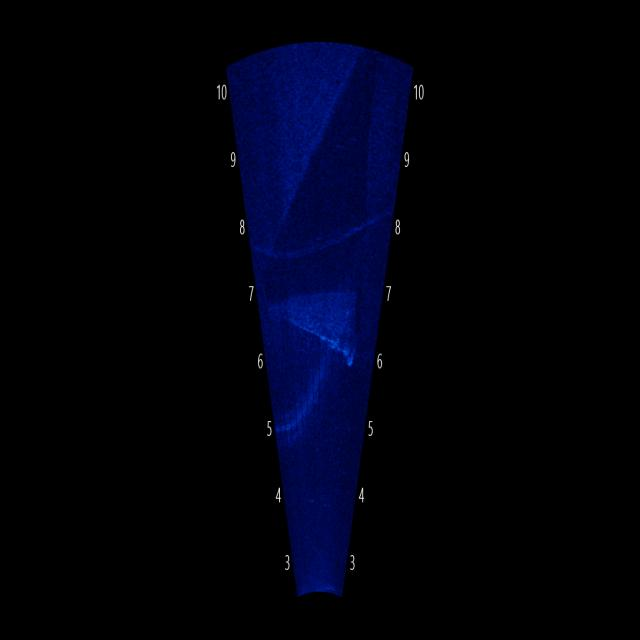triangle: (270, 264, 365, 374)
